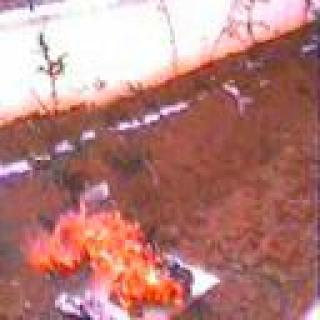fire: (25, 182, 199, 320)
